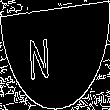N_N: (43, 28, 67, 82)
